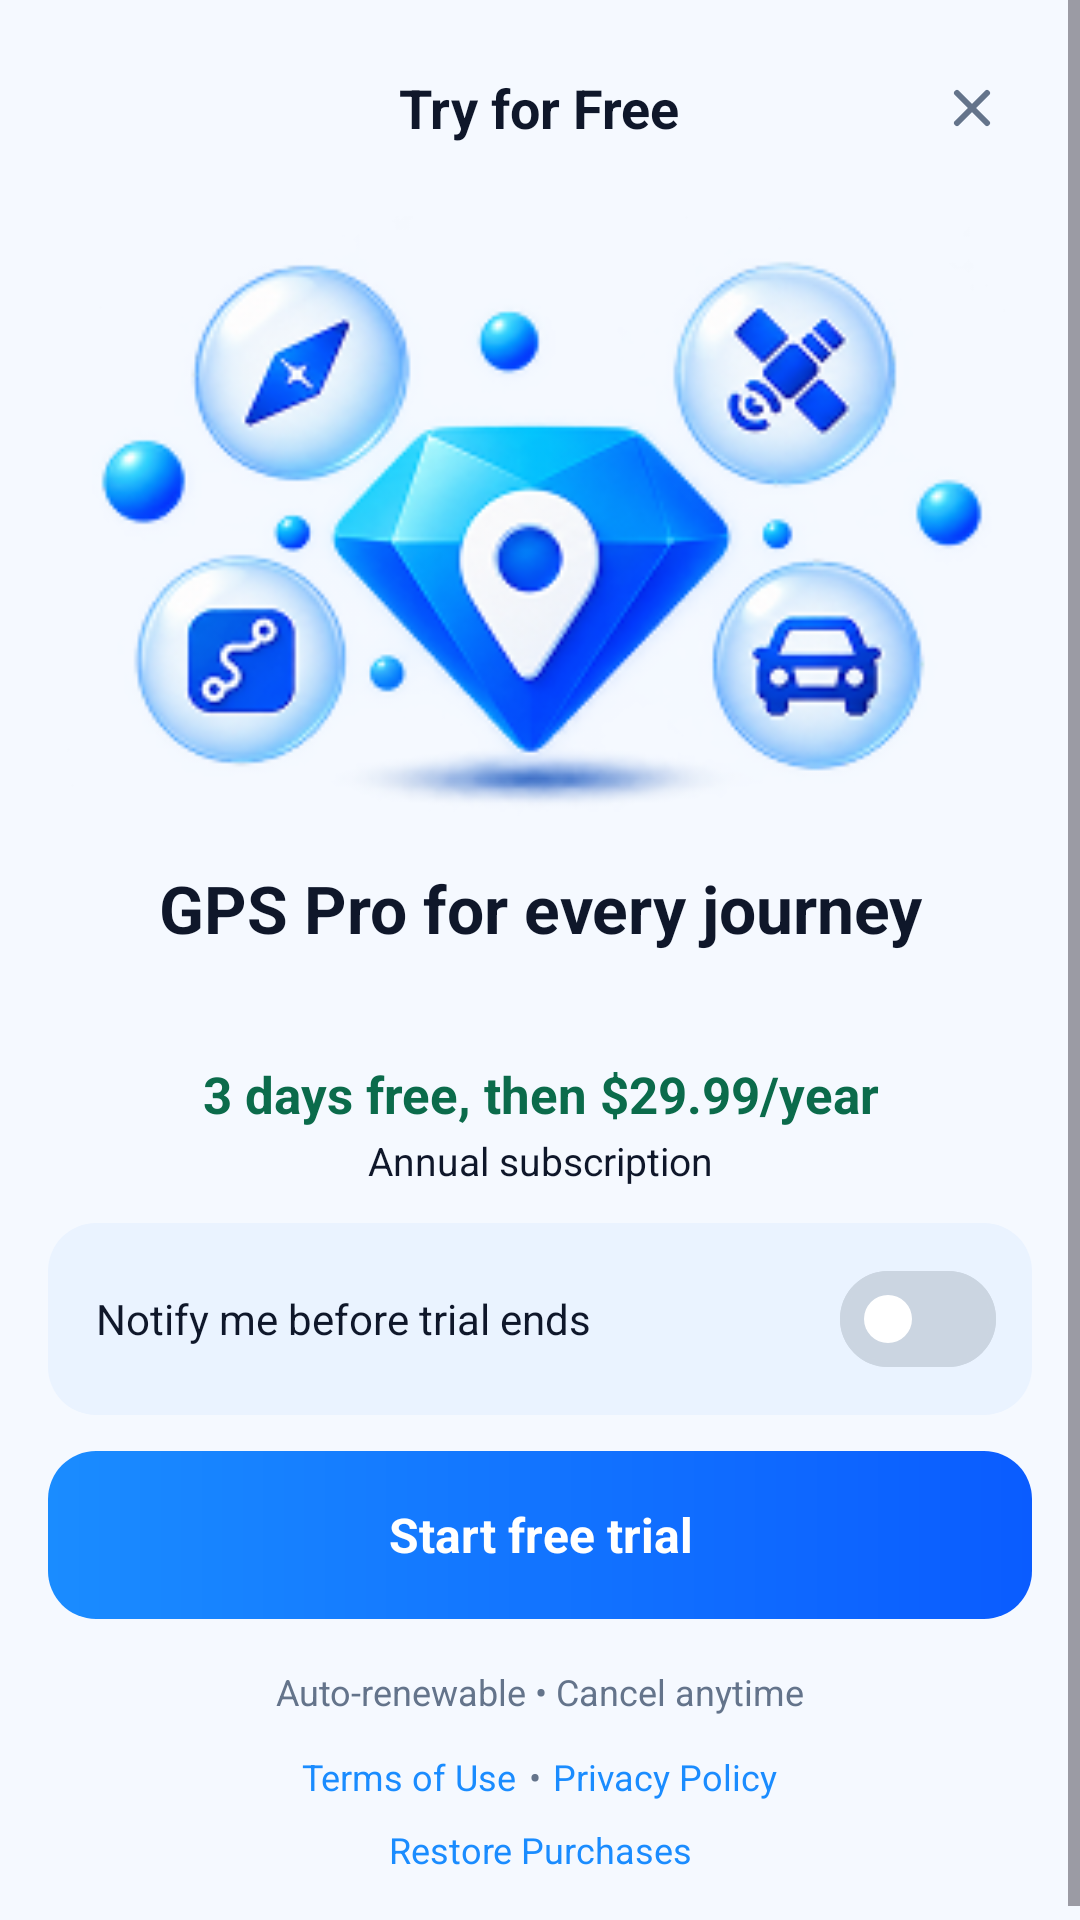

Icon click points for this 1080px x 1920px phone screenshot, format point (x, y):
Close: point (972, 108)
